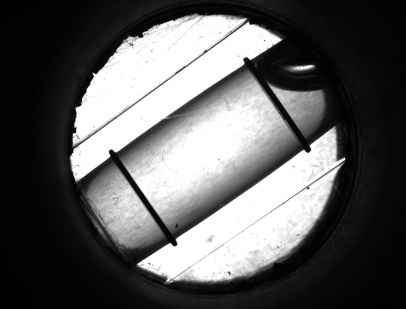line: (113, 170, 170, 224), (264, 101, 306, 131)
